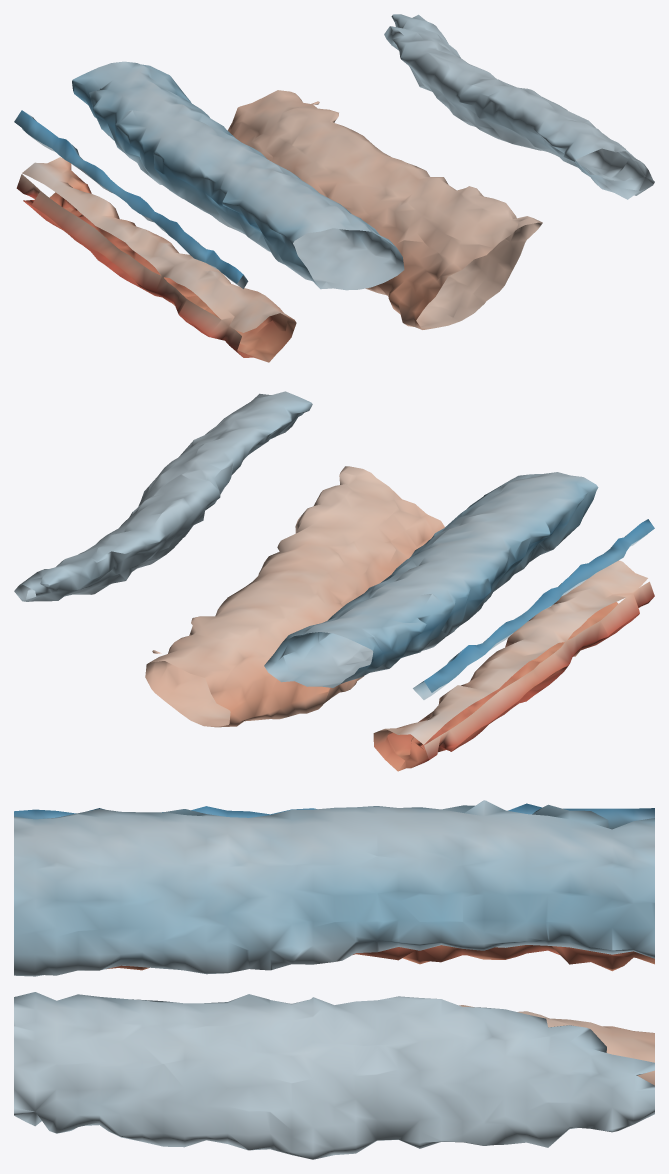
3 views of the same model, one above another, from view 1: azimuth 30°, elevation 25°; view 2: azimuth 150°, elevation 25°; view 3: azimuth 270°, elevation 25° (orthographic). The views are drawn at different scales.
Bounding box in the file's own units: 2.8 × 0.9172 × 2.5.
